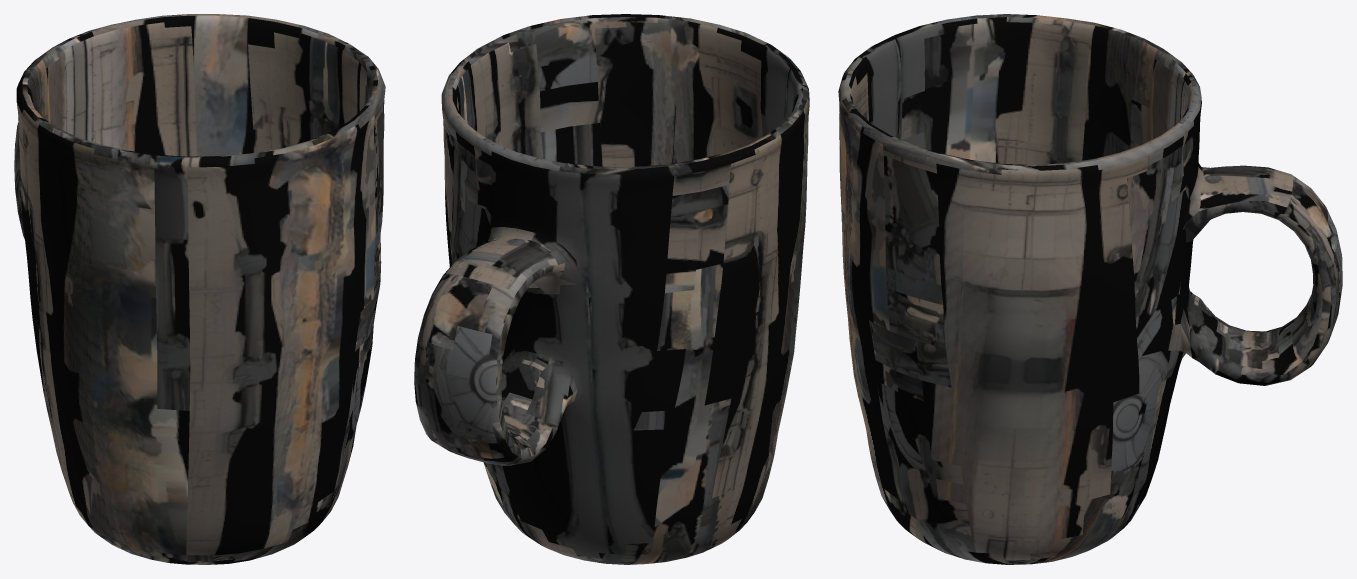
The model's file is triMug.obj.
3 renders of one model, left to right at view 1: azimuth 30°, elevation 25°; view 2: azimuth 150°, elevation 25°; view 3: azimuth 270°, elevation 25°, orthographic.
Visible parts, largest first — view 1: tripo_node_a8b6dceb-8722-4b96-b0ed-70b8bbf37a77; view 2: tripo_node_a8b6dceb-8722-4b96-b0ed-70b8bbf37a77; view 3: tripo_node_a8b6dceb-8722-4b96-b0ed-70b8bbf37a77.
Boxes of the visible parts, x1,y1,x2,y2 form: tripo_node_a8b6dceb-8722-4b96-b0ed-70b8bbf37a77: [14, 14, 385, 564]; tripo_node_a8b6dceb-8722-4b96-b0ed-70b8bbf37a77: [414, 14, 809, 564]; tripo_node_a8b6dceb-8722-4b96-b0ed-70b8bbf37a77: [838, 14, 1342, 564].
Bounding box in the file's own units: 0.689 × 0.9037 × 0.9461.
